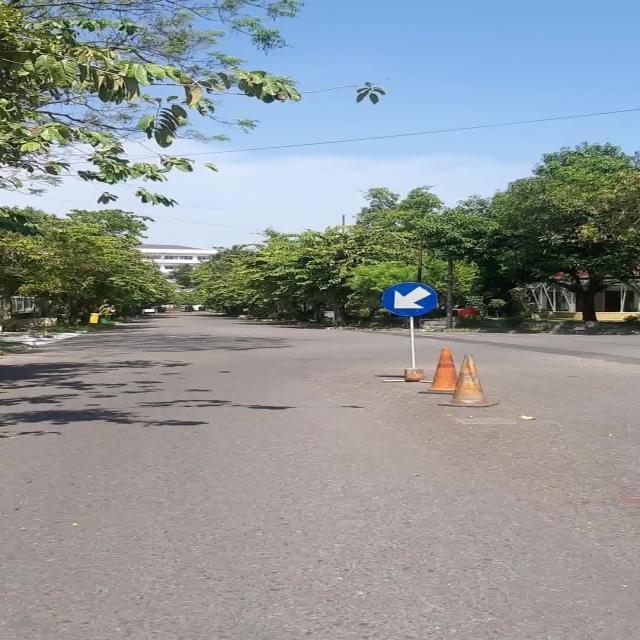Lajur Kiri: (382, 282, 437, 316)
